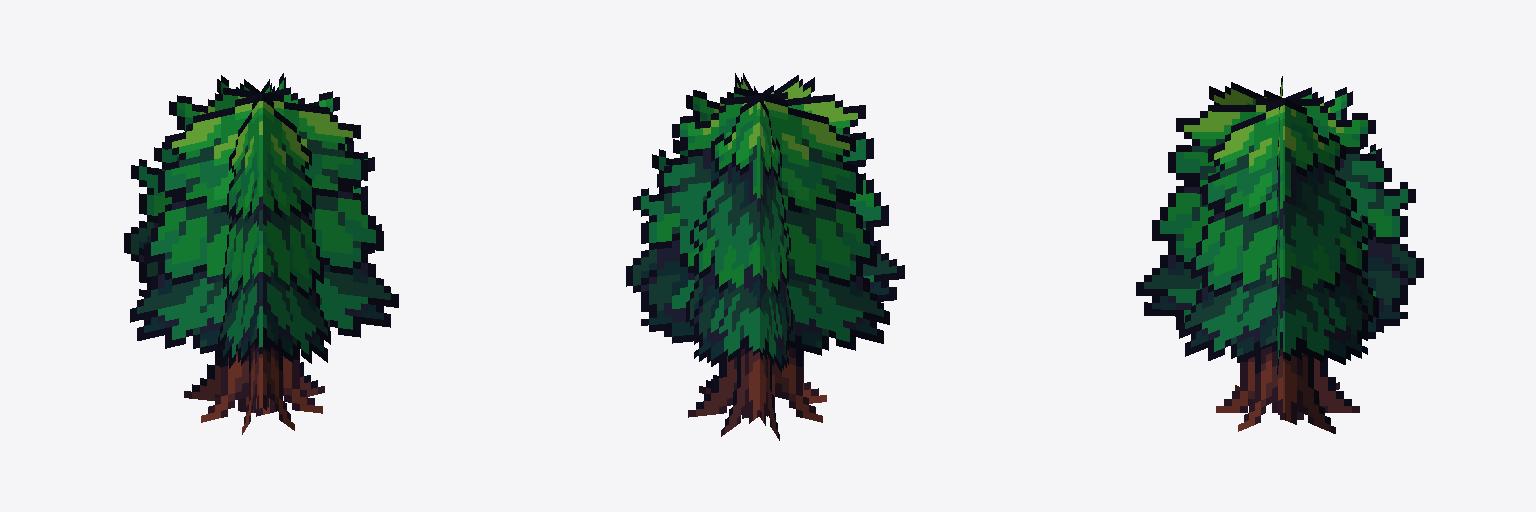
The picture shows the model from 3 angles: view 1: azimuth 30°, elevation 25°; view 2: azimuth 150°, elevation 25°; view 3: azimuth 270°, elevation 25°; orthographic projection.
Visible parts, largest first — view 1: Hoja1, Hoja4, Hoja3, Hoja2, Tronco1, Tronco4, Tronco3, Tronco2; view 2: Hoja1, Hoja2, Hoja3, Hoja4, Tronco2, Tronco1, Tronco3, Tronco4; view 3: Hoja3, Hoja4, Hoja2, Tronco3, Tronco2, Tronco4, Hoja1.
Boxes of the visible parts, <box> form: Hoja1: <box>130,87,381,354</box>; Hoja4: <box>124,88,398,337</box>; Hoja3: <box>217,75,330,363</box>; Hoja2: <box>218,73,285,368</box>; Tronco1: <box>201,345,324,422</box>; Tronco4: <box>184,346,322,413</box>; Tronco3: <box>263,347,294,430</box>; Tronco2: <box>242,343,258,434</box>; Hoja1: <box>646,87,889,355</box>; Hoja2: <box>626,92,904,351</box>; Hoja3: <box>686,75,814,366</box>; Hoja4: <box>735,73,792,372</box>; Tronco2: <box>688,351,826,418</box>; Tronco1: <box>699,347,822,422</box>; Tronco3: <box>721,348,758,436</box>; Tronco4: <box>760,357,779,440</box>; Hoja3: <box>1136,98,1423,358</box>; Hoja4: <box>1179,87,1381,362</box>; Hoja2: <box>1209,82,1378,364</box>; Tronco3: <box>1216,353,1359,419</box>; Tronco2: <box>1235,354,1335,433</box>; Tronco4: <box>1238,346,1339,431</box>; Hoja1: <box>1276,76,1282,374</box>.
Bounding box in the file's own units: 2.38 × 2.78 × 2.38.
Materials: 2 (2 with a texture image).